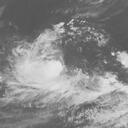cyclone: (21, 29, 100, 98)
